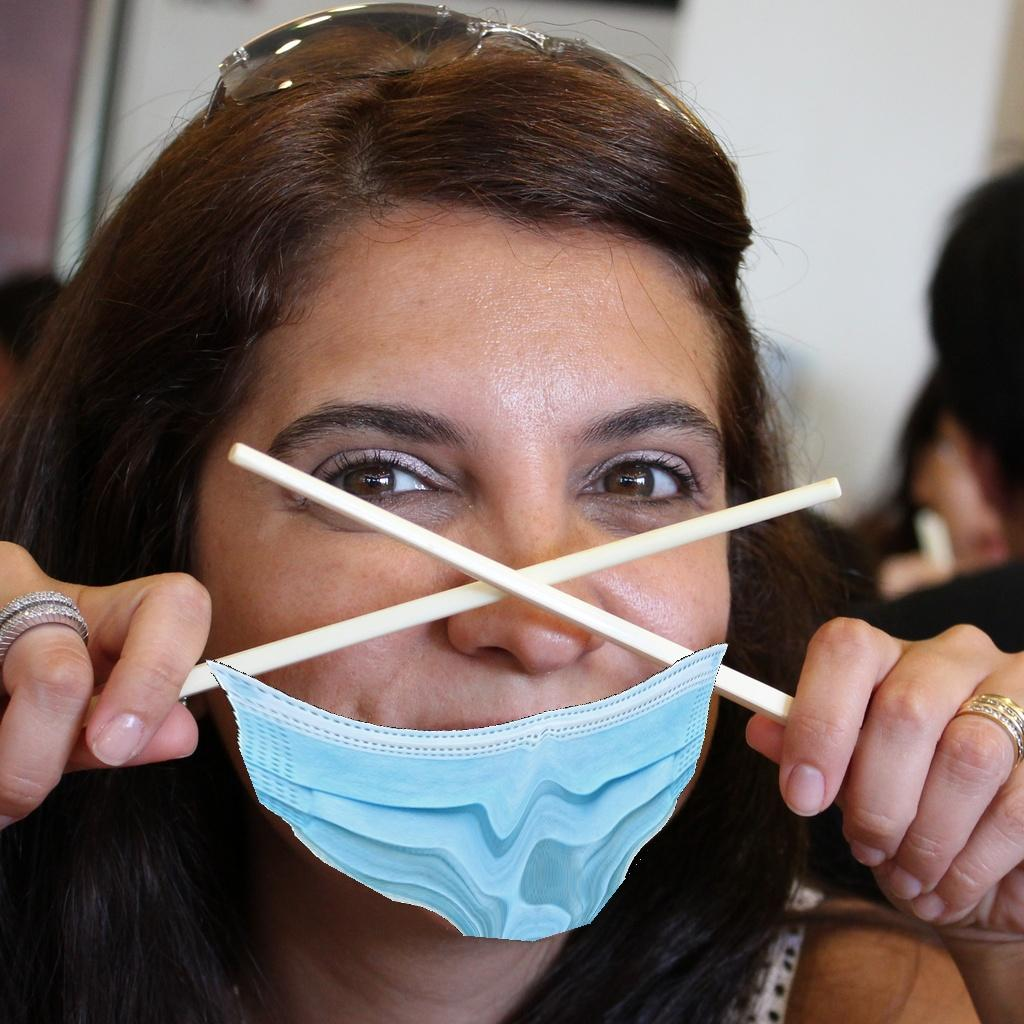Máscara Incorreta: (186, 321, 759, 928)
